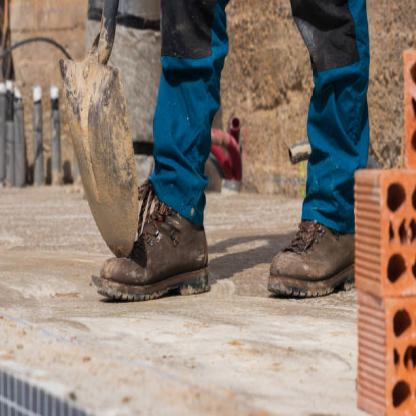bota: (92, 184, 216, 306), (258, 210, 362, 298)
